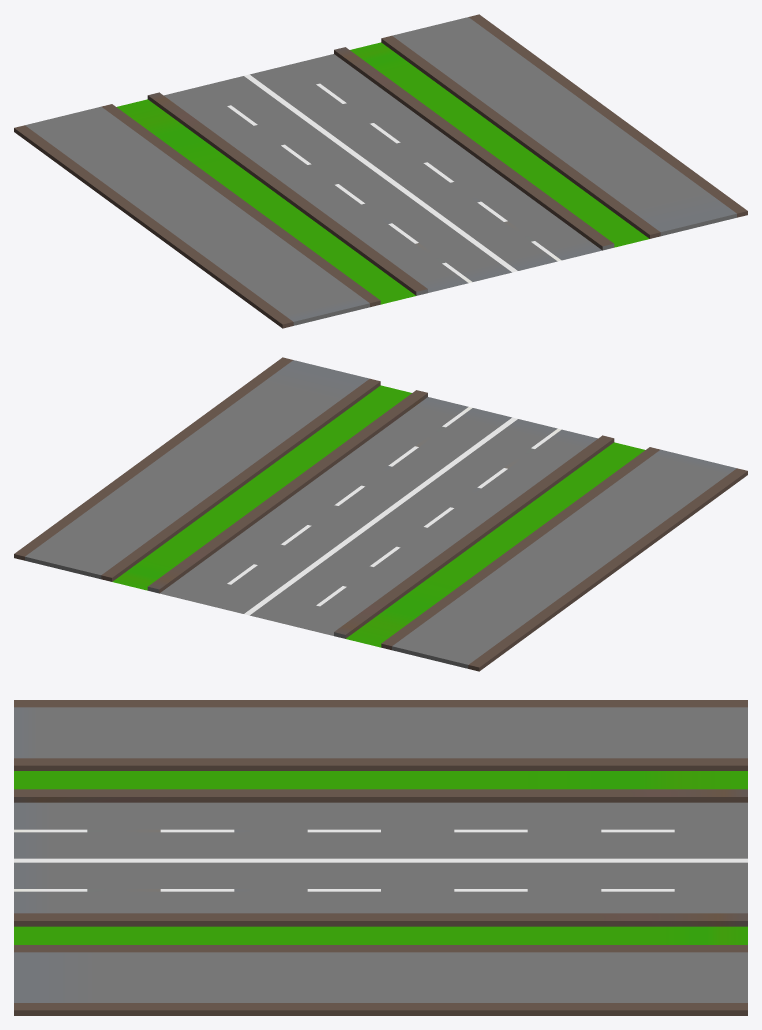
Rendered from SM_Road_P.fbx.
3 renders of one model, top to bottom at view 1: azimuth 30°, elevation 25°; view 2: azimuth 150°, elevation 25°; view 3: azimuth 270°, elevation 25°, orthographic. The views are drawn at different scales.
Visible parts, largest first — view 1: SM_Road_P; view 2: SM_Road_P; view 3: SM_Road_P.
Boxes of the visible parts, bbox=[...] form: SM_Road_P: bbox=[14, 14, 747, 328]; SM_Road_P: bbox=[14, 357, 747, 671]; SM_Road_P: bbox=[14, 700, 747, 1015].
Bounding box in the file's own units: 360000 × 2992 × 360000.
